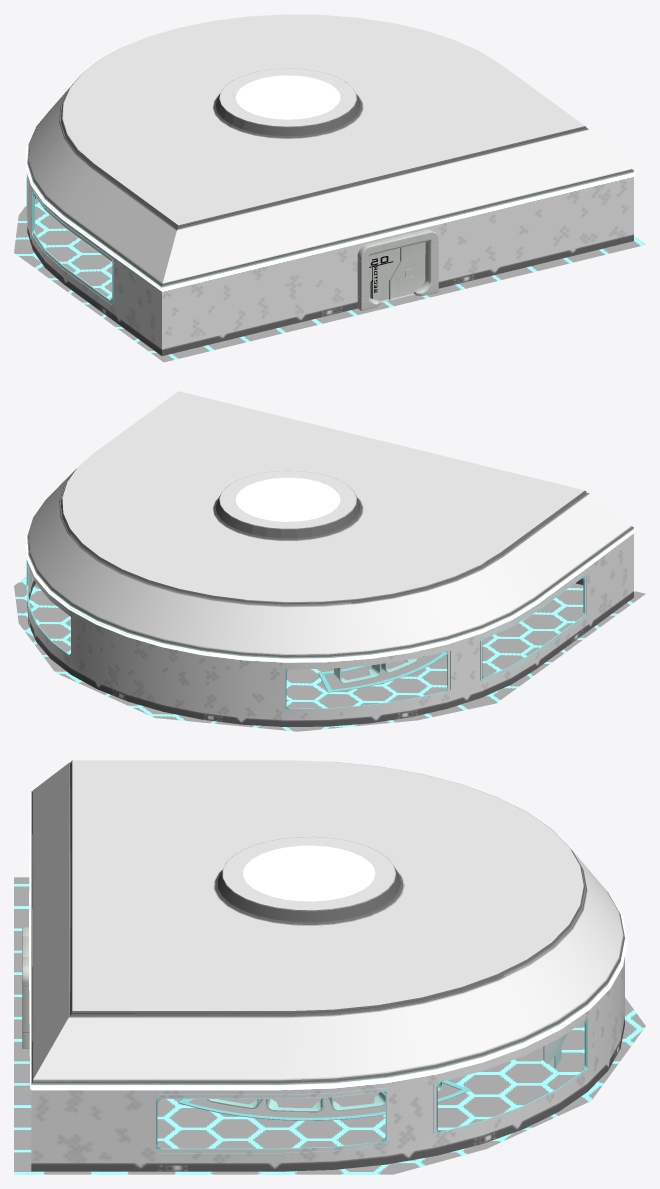
The picture shows the model from 3 angles, top to bottom: view 1: azimuth 30°, elevation 25°; view 2: azimuth 150°, elevation 25°; view 3: azimuth 270°, elevation 25°; orthographic projection. The views are drawn at different scales.
Visible parts, largest first — view 1: polySurface37, floor, door_gate, R_door, L_door, polySurface38; view 2: polySurface37, floor, tile_7, polySurface38; view 3: polySurface37, floor, tile_2, polySurface40, door_gate, polySurface41.
Part boxes in pixels (left/top/right/bottom): polySurface37: left=25, top=14, right=635, bottom=355; floor: left=14, top=197, right=645, bottom=362; door_gate: left=357, top=229, right=438, bottom=310; R_door: left=389, top=242, right=425, bottom=300; L_door: left=369, top=248, right=400, bottom=302; polySurface38: left=32, top=190, right=113, bottom=304; polySurface37: left=25, top=391, right=635, bottom=726; floor: left=14, top=577, right=645, bottom=731; tile_7: left=318, top=652, right=446, bottom=692; polySurface38: left=480, top=573, right=586, bottom=682; polySurface37: left=29, top=760, right=627, bottom=1171; floor: left=14, top=877, right=645, bottom=1174; tile_2: left=178, top=1080, right=470, bottom=1120; polySurface40: left=153, top=1088, right=388, bottom=1153; door_gate: left=22, top=927, right=29, bottom=1048; polySurface41: left=433, top=1019, right=587, bottom=1136.
Size of the model in its own units: 4082 by 991 by 3666.
